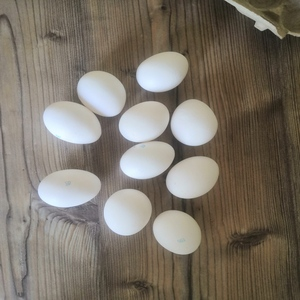white egg: (42, 100, 103, 144), (37, 168, 102, 208), (152, 208, 205, 255), (165, 155, 220, 200), (103, 188, 153, 237), (169, 98, 219, 147), (77, 70, 127, 118), (118, 100, 171, 144), (135, 51, 190, 93), (119, 140, 176, 180)
